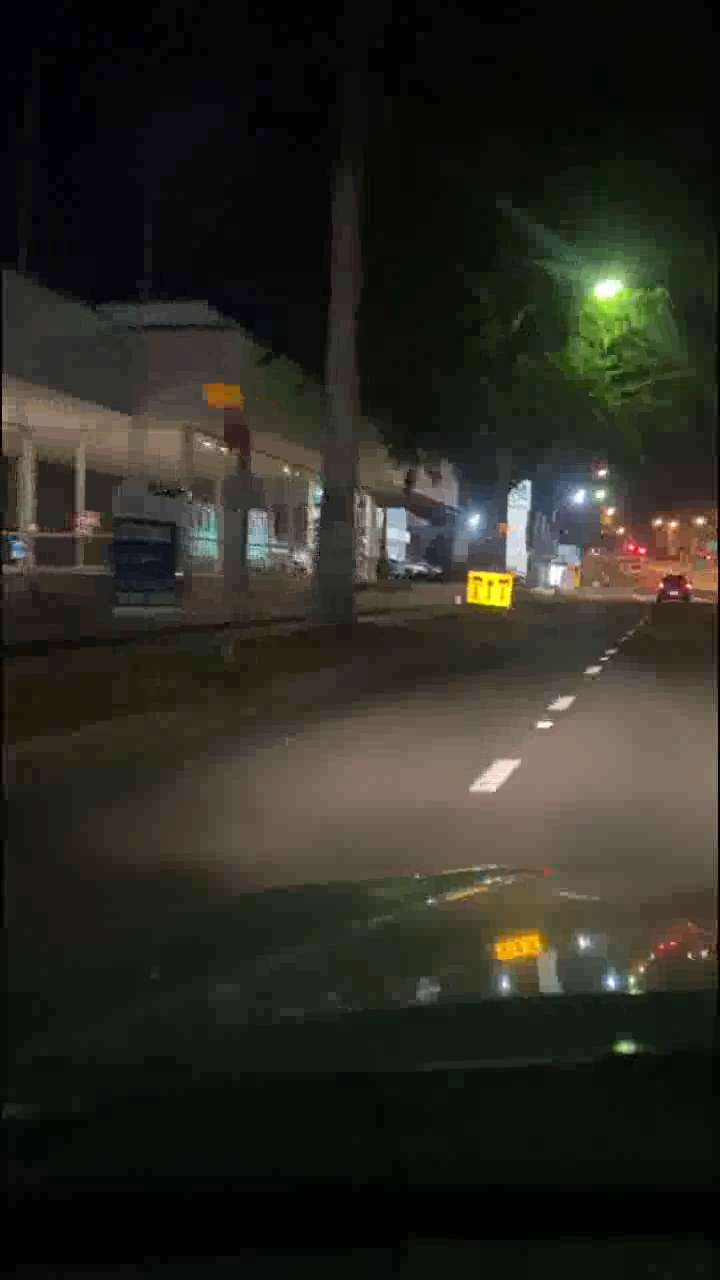road works sign board: (466, 566, 512, 611)
